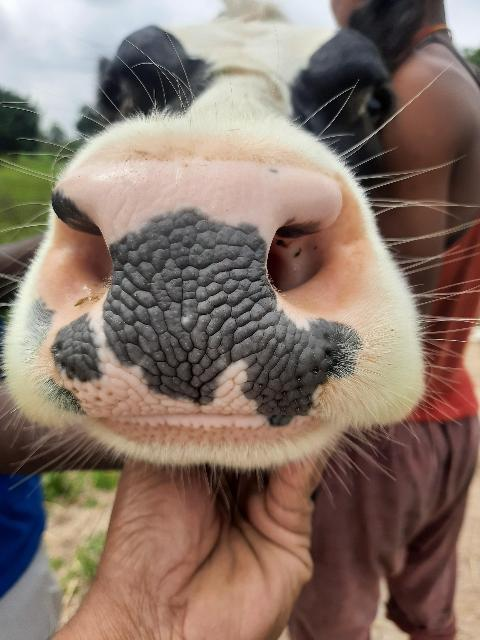Muzzle: (74, 174, 330, 420)
